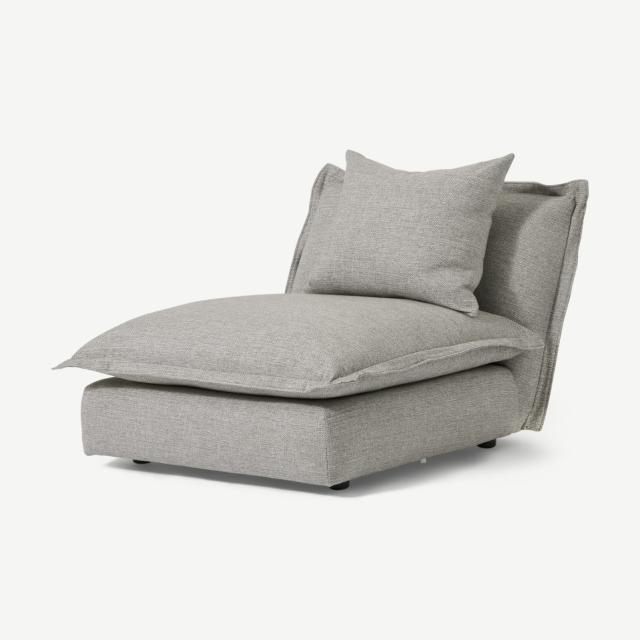Soffa: (65, 146, 590, 495)
